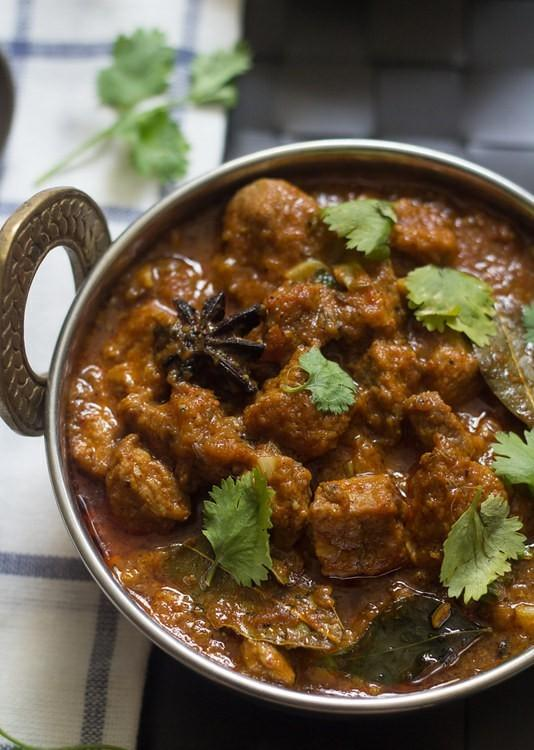MuttonCurry: (66, 161, 534, 692)
